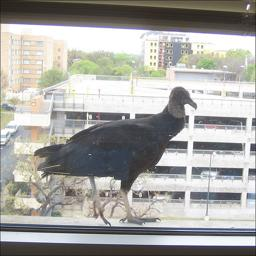bird: (96, 128, 256, 256)
